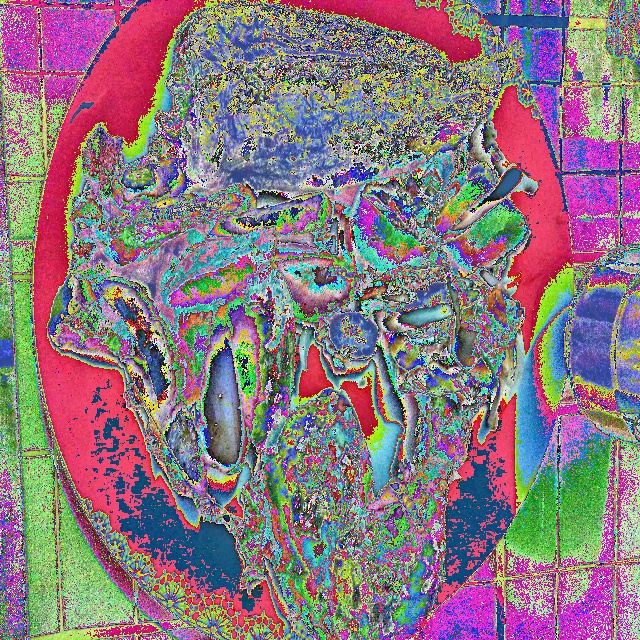background: (48, 0, 529, 640), (70, 196, 639, 444)
